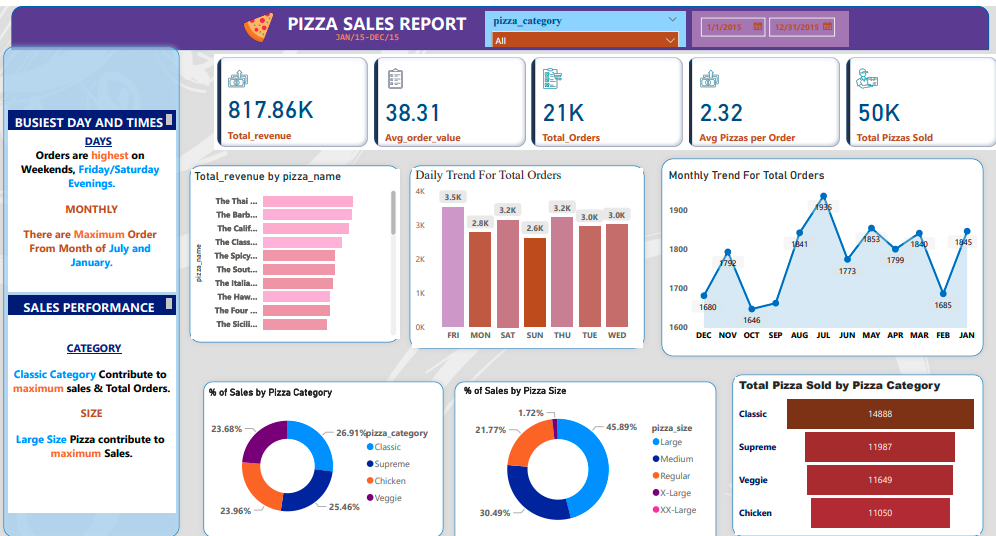

The page's visual inventory and layout, read from the dashboard file:
{"tool":"powerbi","page":{"name":"Page 1","canvas":[1500,820],"ordinal":0},"visuals":[{"type":"cardVisual","fields":{"Data":["pizza_sales.Measure total_revenue","pizza_sales.Measure avg_order_value","pizza_sales.Measure Total_Orders","pizza_sales.Measure Avg Pizzas per Order","pizza_sales.Measure Total Pizzas Sold"]},"box":[322.5,72.5,1177.5,142.5],"z":0},{"type":"shape","box":[19.7,0,1460.5,65.8],"z":1000},{"type":"textbox","box":[405.3,1.3,322.4,61.8],"z":2000},{"type":"textbox","box":[418.4,32.9,265.8,39.5],"z":3000},{"type":"image","box":[346.1,5.3,86.8,55.3],"z":4000},{"type":"shape","box":[607.5,231.2,366.2,288.8],"z":5000},{"type":"shape","box":[983.8,221.2,496.2,310],"z":6000},{"type":"stackedAreaChart","title":"Monthly Trend For Total Orders","fields":{"Category":["pizza_sales.Monthname"],"Y":["pizza_sales.Total_Orders"]},"box":[997.5,242.5,470,267.5],"z":7000},{"type":"shape","box":[675,555,405,257.5],"z":8000},{"type":"shape","box":[300,555,372.5,247.5],"z":9000},{"type":"shape","box":[1090,543.8,390,257.5],"z":10000},{"type":"donutChart","title":"% of Sales by Pizza Category","fields":{"Category":["pizza_sales.pizza_category"],"Y":["pizza_sales.Total_revenue"]},"box":[310,570,353.8,221.2],"z":11000},{"type":"donutChart","title":"% of Sales by Pizza Size","fields":{"Category":["pizza_sales.pizza_size"],"Y":["pizza_sales.Total_revenue"]},"box":[691.8,567.1,370.6,236.5],"z":12000},{"type":"funnel","title":"Total Pizza Sold by Pizza Category","fields":{"Y":["pizza_sales.Total Pizzas Sold"],"Category":["pizza_sales.pizza_category"]},"box":[1102.5,555,365,236.2],"z":13000},{"type":"shape","box":[0,52.5,278.8,750],"z":14000},{"type":"textbox","box":[15,156.2,250,30],"z":15000},{"type":"textbox","box":[15,186.2,250,241.2],"z":16000},{"type":"textbox","box":[15,432.5,250,30],"z":17000},{"type":"textbox","box":[15,462.5,250,295],"z":18000},{"type":"slicer","fields":{"Values":["pizza_sales.pizza_category"]},"box":[727.5,7.5,300,52.5],"z":19000},{"type":"columnChart","title":"Daily Trend For Total Orders","fields":{"Category":["pizza_sales.ORDER DAY"],"Y":["pizza_sales.Total_Orders"]},"box":[618.8,242.5,343.8,267.5],"z":20000},{"type":"slicer","fields":{"Values":["pizza_sales.order_date"]},"box":[1037.5,7.5,233.8,52.5],"z":21000},{"type":"shape","box":[278.8,231.2,328.8,278.8],"z":22000},{"type":"barChart","fields":{"Category":["pizza_sales.pizza_name"],"Y":["pizza_sales.Total_revenue"]},"box":[288.8,243.8,311.2,253.8],"z":23000}]}

Visuals, with their boxes in screenshot pixels (x1, y1, x2, y2), scaled from the page's 1500x820 canvas onto the 996x536 screenshot:
cardVisual - pizza_sales.Measure total_revenue x pizza_sales.Measure avg_order_value: [214, 47, 995, 141]
shape: [13, 0, 983, 43]
textbox: [269, 1, 483, 41]
textbox: [278, 22, 454, 47]
image: [230, 3, 287, 40]
shape: [403, 151, 647, 340]
shape: [653, 145, 983, 347]
"Monthly Trend For Total Orders" stackedAreaChart: [662, 159, 974, 333]
shape: [448, 363, 717, 531]
shape: [199, 363, 447, 525]
shape: [724, 355, 983, 524]
"% of Sales by Pizza Category" donutChart: [206, 373, 441, 517]
"% of Sales by Pizza Size" donutChart: [459, 371, 705, 525]
"Total Pizza Sold by Pizza Category" funnel: [732, 363, 974, 517]
shape: [0, 34, 185, 525]
textbox: [10, 102, 176, 122]
textbox: [10, 122, 176, 279]
textbox: [10, 283, 176, 302]
textbox: [10, 302, 176, 495]
slicer - pizza_sales.pizza_category: [483, 5, 682, 39]
"Daily Trend For Total Orders" columnChart: [411, 159, 639, 333]
slicer - pizza_sales.order_date: [689, 5, 844, 39]
shape: [185, 151, 403, 333]
barChart - pizza_sales.pizza_name x pizza_sales.Total_revenue: [192, 159, 398, 325]
